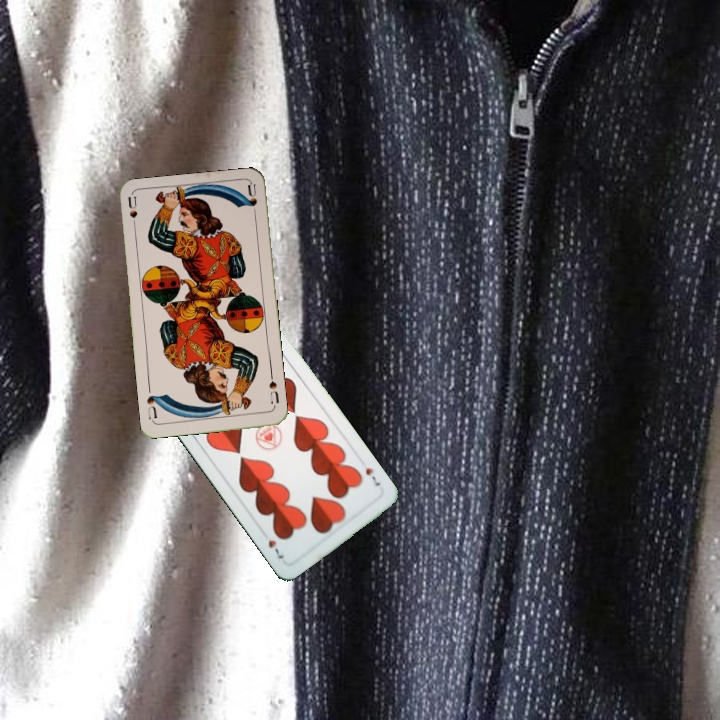H7: (361, 464, 383, 489)
SU: (124, 193, 139, 234), (265, 370, 282, 406)
